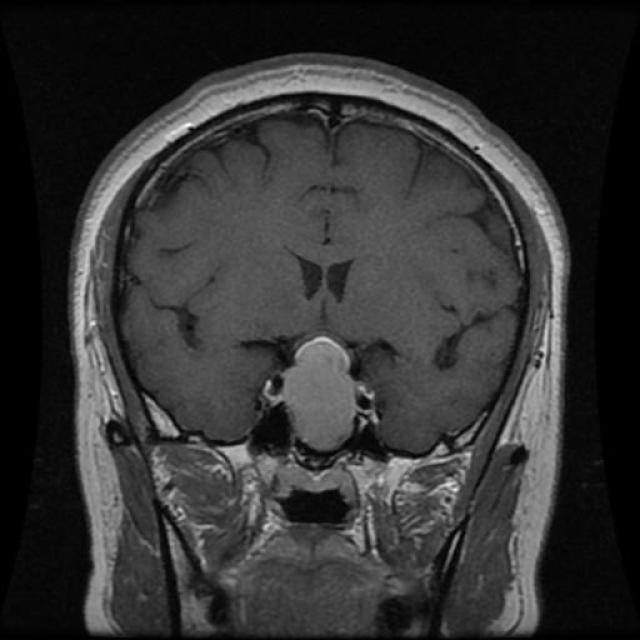pituitary: (264, 330, 376, 454)
